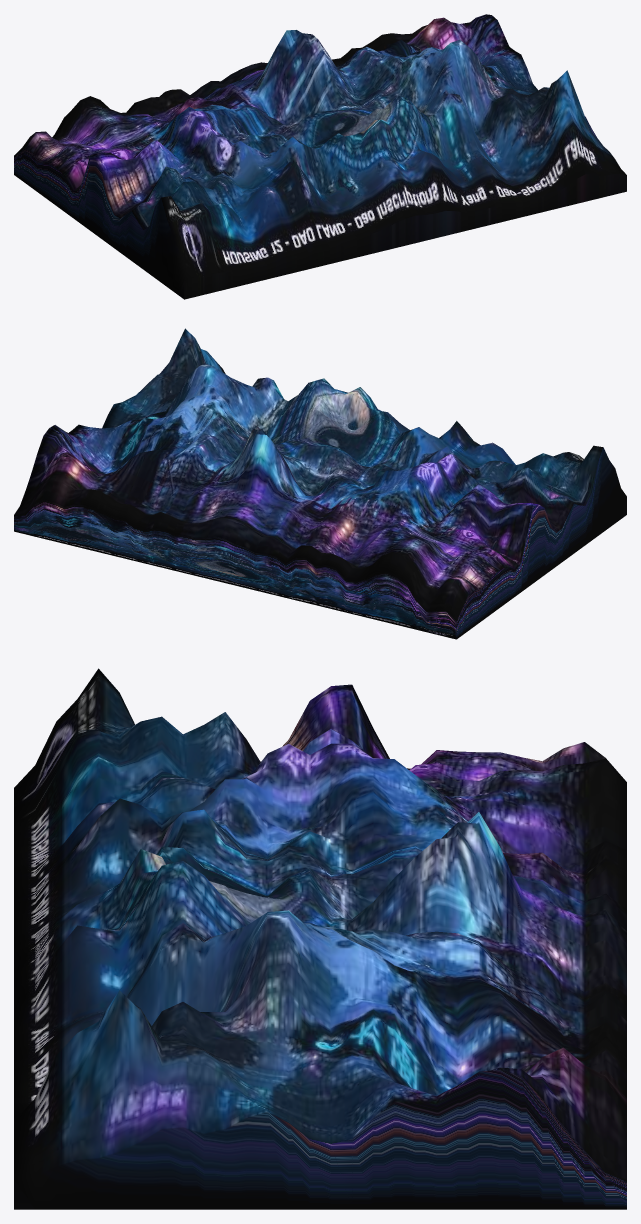
Rendered from HOUSING_12_Dao_Land.glb.
3 renders of one model, top to bottom at view 1: azimuth 30°, elevation 25°; view 2: azimuth 150°, elevation 25°; view 3: azimuth 270°, elevation 25°, orthographic. The views are drawn at different scales.
Parts seen in each view (by area): view 1: HOUSING_12_Dao_Land; view 2: HOUSING_12_Dao_Land; view 3: HOUSING_12_Dao_Land.
Boxes of the visible parts, bbox=[...] form: HOUSING_12_Dao_Land: bbox=[14, 14, 626, 299]; HOUSING_12_Dao_Land: bbox=[14, 328, 626, 639]; HOUSING_12_Dao_Land: bbox=[14, 668, 626, 1209].
Size of the model in its own units: 2 by 0.51 by 1.33.
Materials: 1 (1 with a texture image).
